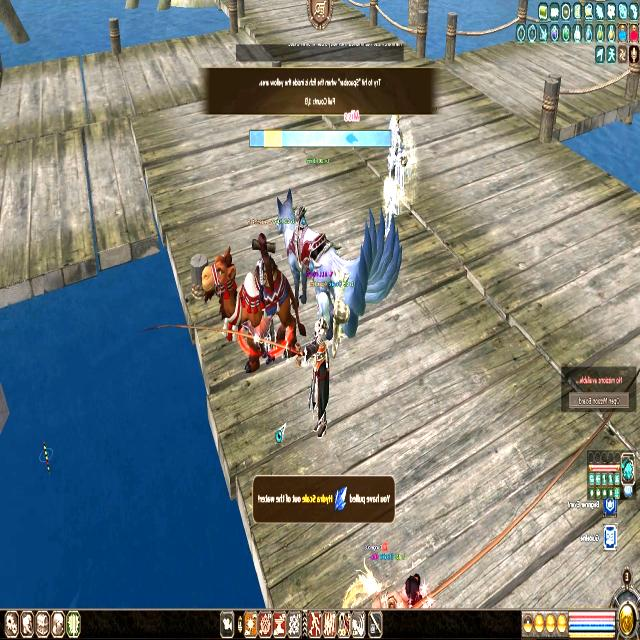fishes: (344, 132, 358, 144)
